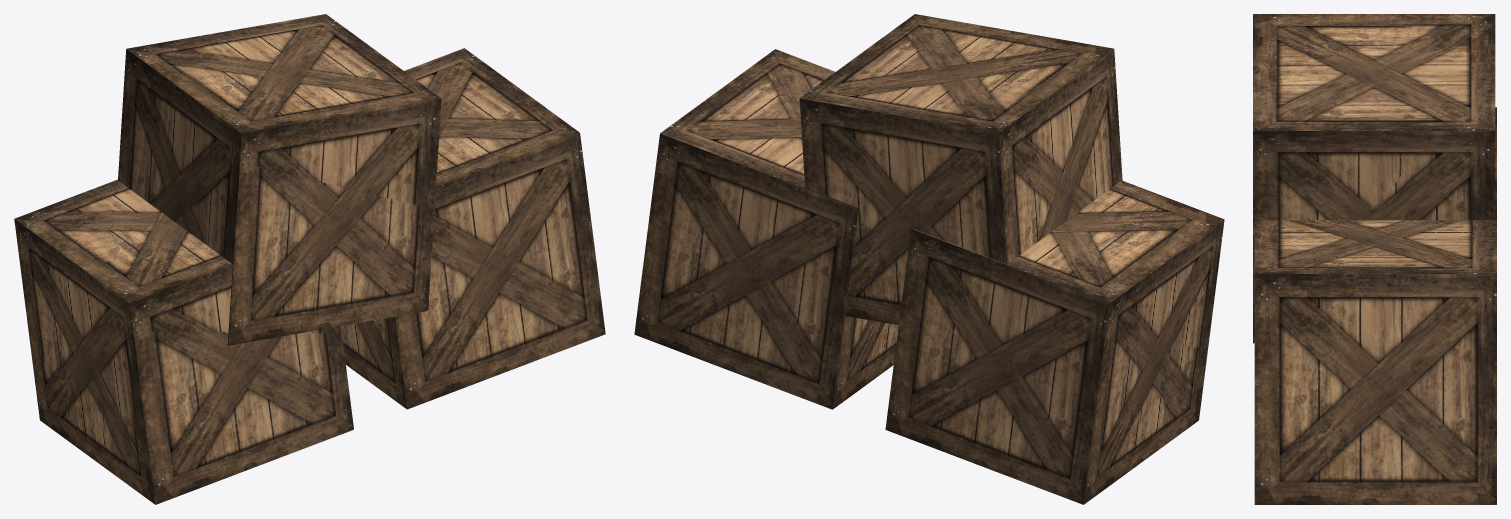
Rendered from boxx.fbx.
3 views of the same model, side by side, from view 1: azimuth 30°, elevation 25°; view 2: azimuth 150°, elevation 25°; view 3: azimuth 270°, elevation 25° (orthographic). The views are drawn at different scales.
Visible parts, largest first — view 1: Box001, Box001_sh_4_1, Box001_sh_4_2, Box003, Box002, Box001_sh_1_1, Box001_sh_2_1, Box001_sh_1_2, Box001_sh_2, Box001_sh_2_2, Box001_sh_3, Box001_sh_3_1; view 2: Box001_sh_1_2, Box001_sh_1_1, Box001_sh_1, Box001_sh_3, Box001_sh_3_2, Box001_sh_3_1, Box001_sh_2_1, Box002, Box001_sh_2_2, Box001_sh_2, Box001_sh_4_1, Box001 (+3 smaller); view 3: Box001, Box001_sh_2_1, Box001_sh_2, Box003, Box001_sh_5, Box001_sh_3, Box001_sh_1_1, Box001_sh_4, Box001_sh_1, Box001_sh_3_1, Box001_sh_5_1.
Part boxes in pixels (x1=…): Box001: x1=341, y1=49, x2=605, y2=409; Box001_sh_4_1: x1=190, y1=132, x2=434, y2=345; Box001_sh_4_2: x1=101, y1=301, x2=353, y2=504; Box003: x1=126, y1=38, x2=441, y2=345; Box002: x1=14, y1=184, x2=341, y2=504; Box001_sh_1_1: x1=118, y1=24, x2=294, y2=221; Box001_sh_2_1: x1=204, y1=35, x2=440, y2=155; Box001_sh_1_2: x1=14, y1=179, x2=159, y2=405; Box001_sh_2: x1=434, y1=70, x2=579, y2=186; Box001_sh_2_2: x1=92, y1=211, x2=232, y2=330; Box001_sh_3: x1=405, y1=48, x2=493, y2=92; Box001_sh_3_1: x1=265, y1=14, x2=354, y2=46; Box001_sh_1_2: x1=971, y1=234, x2=1190, y2=504; Box001_sh_1_1: x1=860, y1=76, x2=1084, y2=285; Box001_sh_1: x1=720, y1=134, x2=886, y2=409; Box001_sh_3: x1=634, y1=112, x2=750, y2=372; Box001_sh_3_2: x1=885, y1=228, x2=985, y2=467; Box001_sh_3_1: x1=799, y1=77, x2=903, y2=325; Box001_sh_2_1: x1=829, y1=14, x2=1115, y2=92; Box002: x1=1051, y1=276, x2=1207, y2=504; Box001_sh_2_2: x1=1049, y1=180, x2=1224, y2=262; Box001_sh_2: x1=690, y1=49, x2=834, y2=138; Box001_sh_4_1: x1=1079, y1=78, x2=1122, y2=211; Box001: x1=692, y1=145, x2=898, y2=409; Box001: x1=1254, y1=200, x2=1496, y2=503; Box001_sh_2_1: x1=1253, y1=14, x2=1433, y2=241; Box001_sh_2: x1=1254, y1=220, x2=1434, y2=394; Box003: x1=1253, y1=14, x2=1495, y2=220; Box001_sh_5: x1=1288, y1=352, x2=1414, y2=504; Box001_sh_3: x1=1387, y1=251, x2=1496, y2=504; Box001_sh_1_1: x1=1332, y1=14, x2=1495, y2=95; Box001_sh_4: x1=1254, y1=388, x2=1308, y2=504; Box001_sh_1: x1=1372, y1=220, x2=1496, y2=251; Box001_sh_3_1: x1=1385, y1=95, x2=1495, y2=220; Box001_sh_5_1: x1=1344, y1=202, x2=1385, y2=220.
Bounding box in the file's own units: 570 × 402 × 241.
